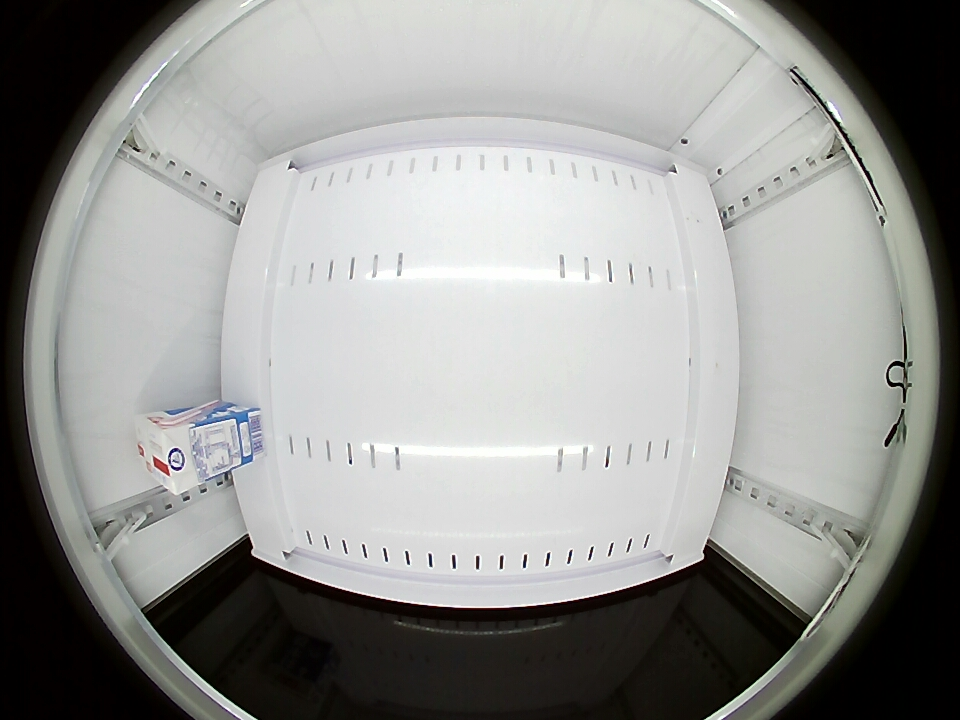niunai: (135, 411, 203, 495)
